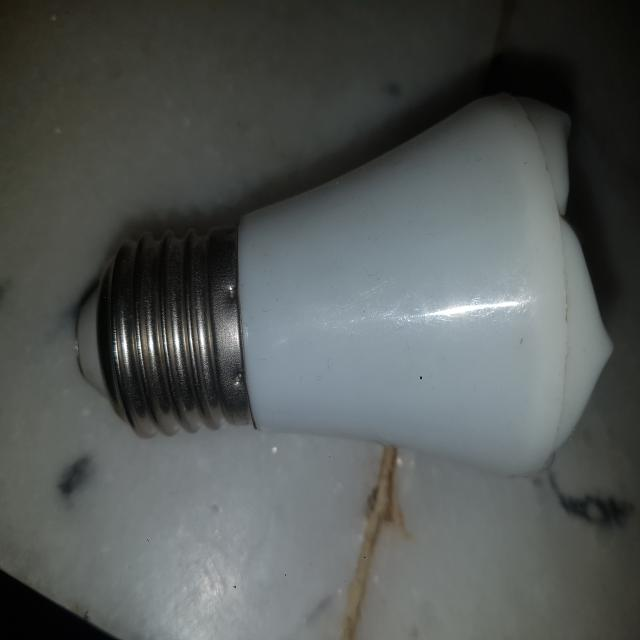electronic: (74, 91, 614, 480)
